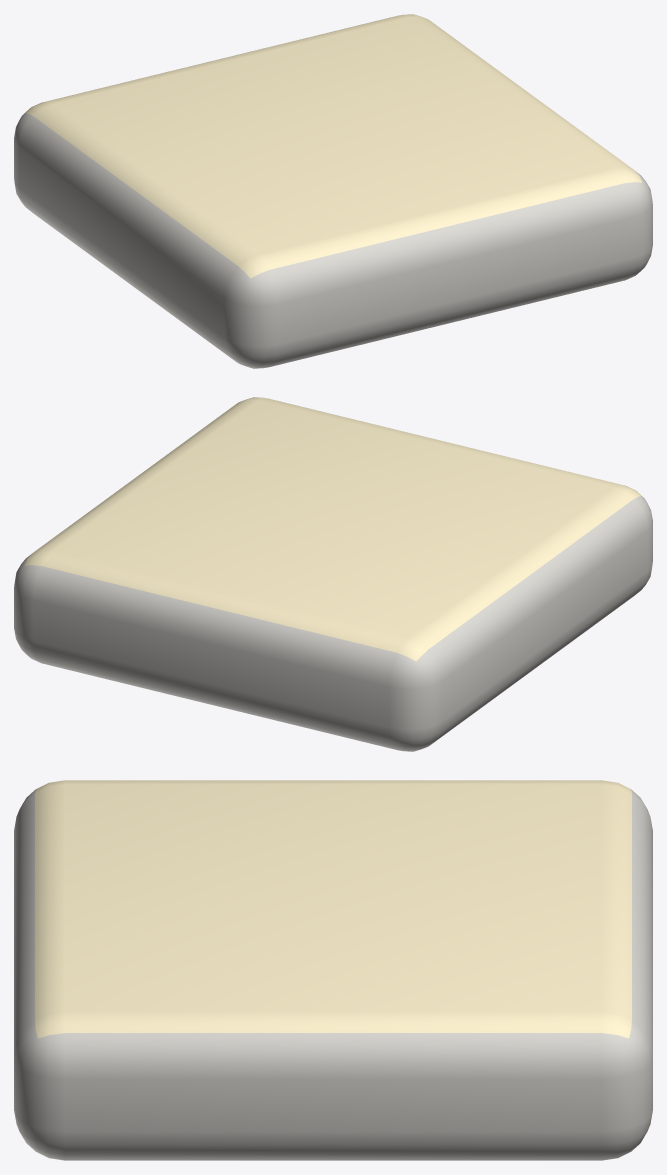
The model's file is SM_Platform_2x2_Thin.fbx.
3 views of the same model, one above another, from view 1: azimuth 30°, elevation 25°; view 2: azimuth 150°, elevation 25°; view 3: azimuth 270°, elevation 25° (orthographic). The views are drawn at different scales.
Parts seen in each view (by area): view 1: SM_Platform_2x2_Thin; view 2: SM_Platform_2x2_Thin; view 3: SM_Platform_2x2_Thin.
Boxes of the visible parts, <box> form: SM_Platform_2x2_Thin: <box>14,14,652,368</box>; SM_Platform_2x2_Thin: <box>14,397,652,751</box>; SM_Platform_2x2_Thin: <box>14,780,652,1160</box>.
Size of the model in its own units: 2 by 0.5 by 2.
